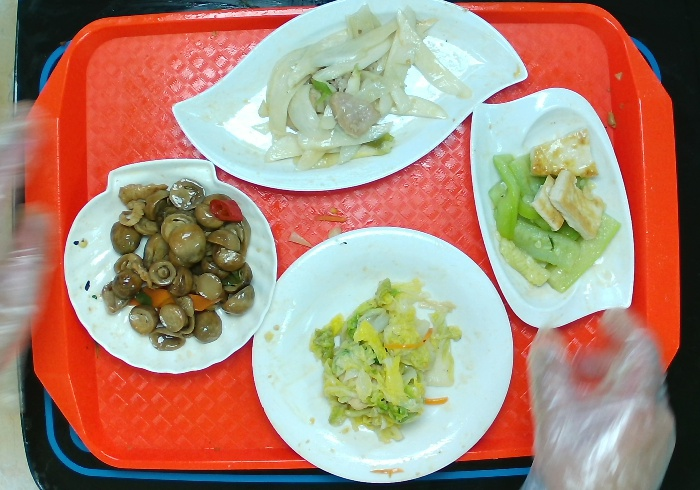RJxy-Bei_Ke_Wan: (52, 147, 280, 376)
RJxy-Jian_Jiao_Fang_Die: (463, 82, 646, 334)
RJxy-Jian_Jiao_Pan: (165, 1, 533, 198)
RJxy-Yuan_Pan: (245, 212, 518, 485)
